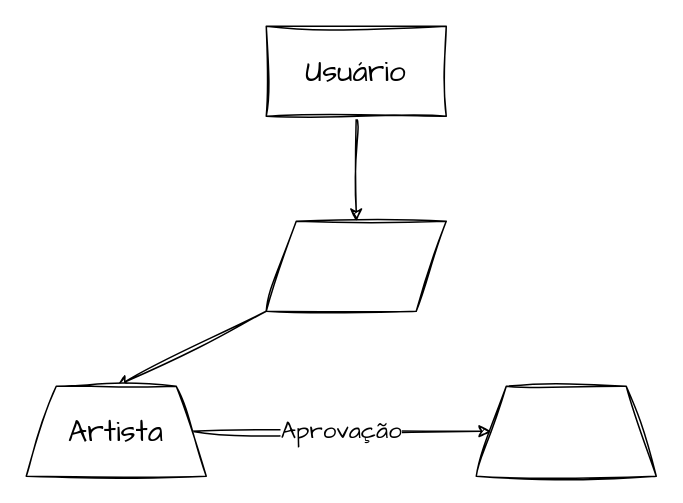
The diagram is 683 pixels wide and 503 high, and some of its shapes have lost their labels. Each missing label, with the box of its shape:
Compra: (265, 220, 446, 311)
Metodo de Pagamento: (475, 385, 656, 476)
